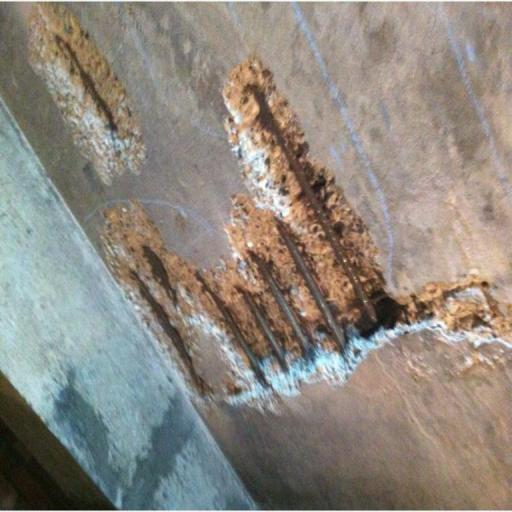spalling: (104, 62, 512, 403), (30, 7, 150, 179)
